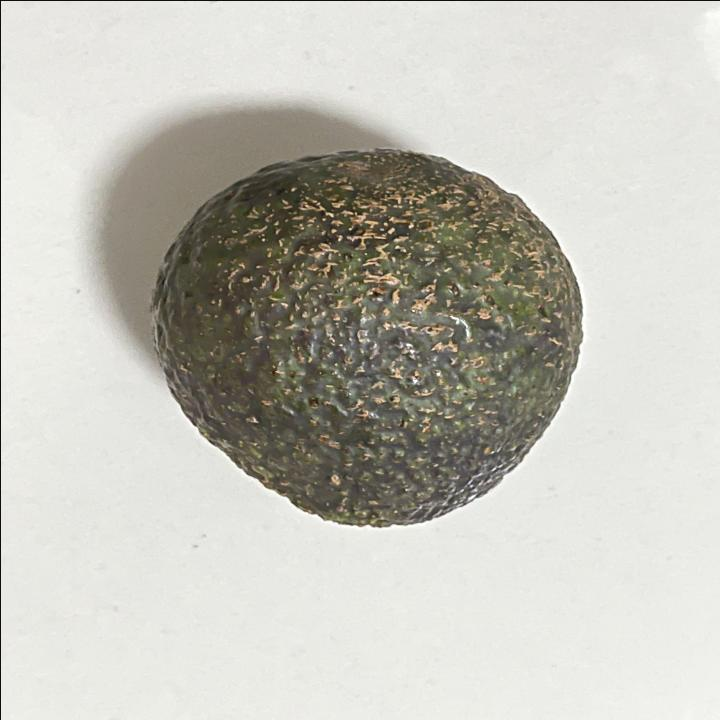Level1: (126, 134, 600, 552)
